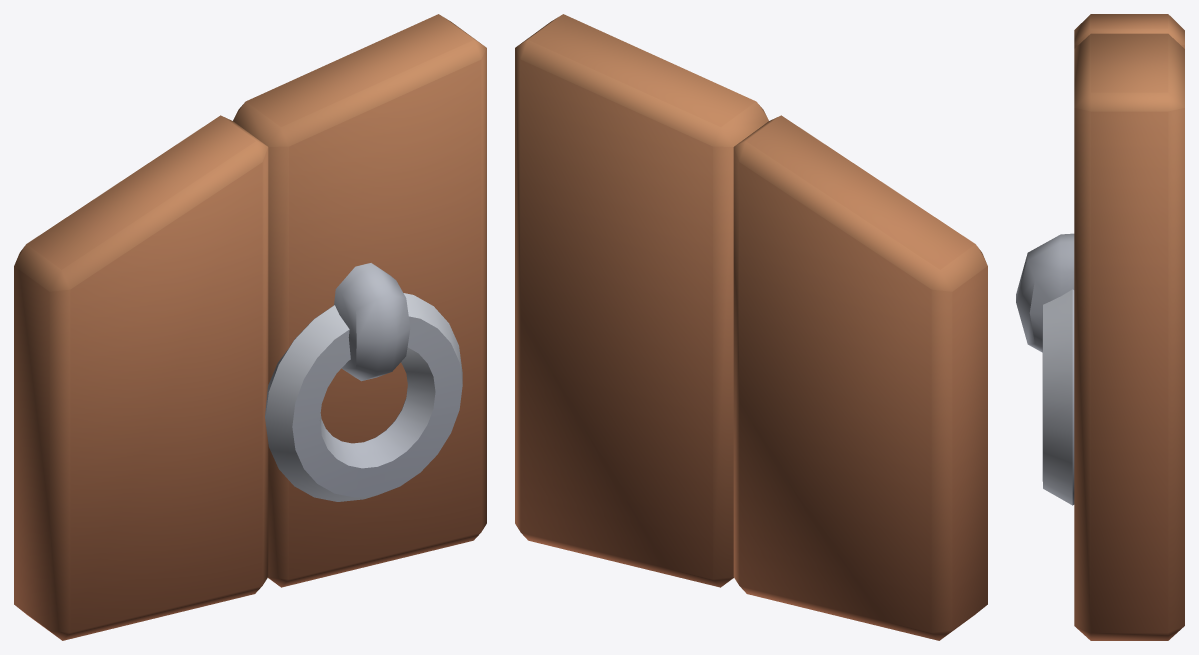
The model's file is gate_double_left.fbx.
3 views of the same model, side by side, from view 1: azimuth 30°, elevation 25°; view 2: azimuth 150°, elevation 25°; view 3: azimuth 270°, elevation 25° (orthographic). The views are drawn at different scales.
Visible parts, largest first — view 1: gate_double_left; view 2: gate_double_left; view 3: gate_double_left.
Boxes of the visible parts, x1,y1,x2,y2 form: gate_double_left: [14, 14, 486, 640]; gate_double_left: [515, 14, 987, 640]; gate_double_left: [1016, 14, 1184, 640].
Bounding box in the file's own units: 100 × 109 × 30.51.
